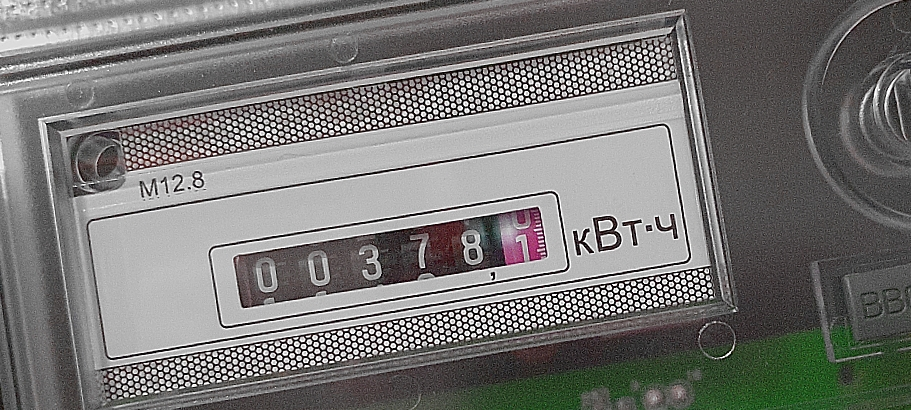0: (250, 251, 282, 294), (303, 246, 332, 287), (508, 206, 533, 231)
1: (510, 229, 533, 263)
3: (354, 239, 385, 283)
7: (405, 229, 434, 270)
8: (456, 224, 485, 267)
screen: (209, 185, 569, 320)
